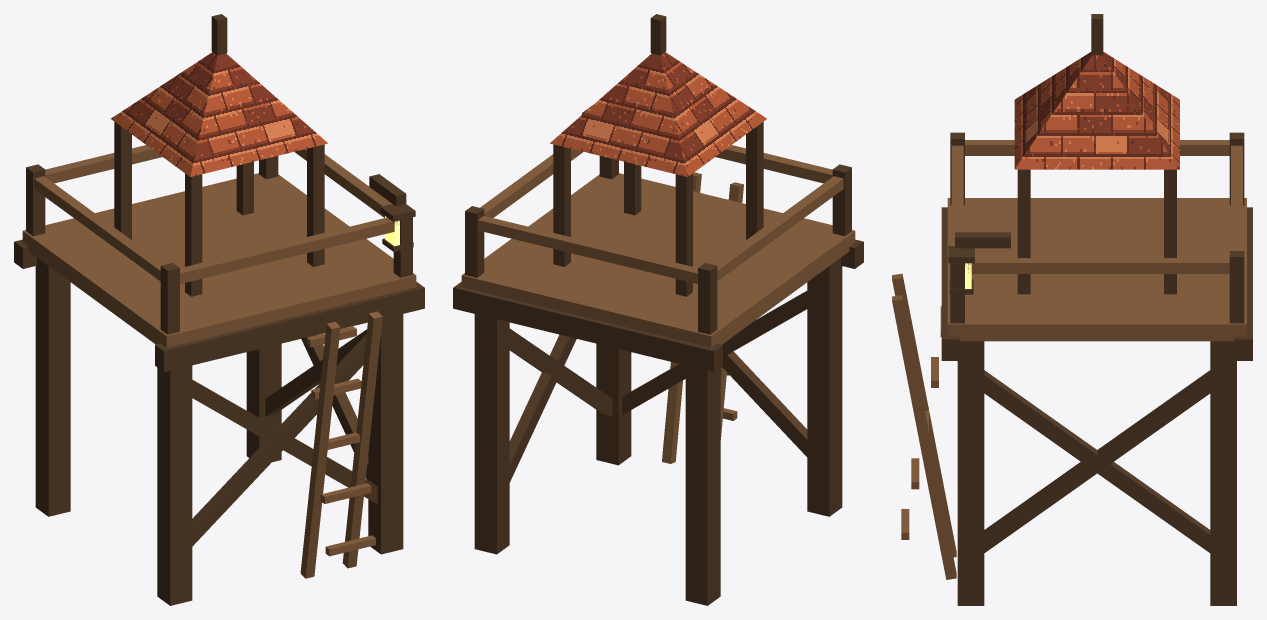
The model's file is guard_post_t1.glb.
The picture shows the model from 3 angles, left to right: view 1: azimuth 30°, elevation 25°; view 2: azimuth 150°, elevation 25°; view 3: azimuth 270°, elevation 25°; orthographic projection. The views are drawn at different scales.
Parts seen in each view (by area): view 1: deck, roof_cap, leg_2, leg_3, leg_1, deck_beam_x_1, brace_front_1, ladder_rail_1, rail_x_1, ladder_rail_0, brace_front_0, leg_0 (+16 smaller); view 2: deck, roof_cap, leg_3, leg_2, leg_0, deck_beam_x_0, rail_x_0, leg_1, brace_front_0, rail_y_1, brace_side_1, brace_front_1 (+13 smaller); view 3: deck, roof_cap, leg_1, leg_0, brace_side_1, brace_side_0, rail_y_0, ladder_rail_0, rail_y_1, roof_post_1, ladder_rail_1, roof_post_0 (+8 smaller).
Part boxes in pixels (<box>): deck: <box>22,173,416,347</box>; roof_cap: <box>111,52,327,176</box>; leg_2: <box>35,258,70,516</box>; leg_3: <box>157,365,192,605</box>; leg_1: <box>368,314,403,554</box>; deck_beam_x_1: <box>155,282,424,372</box>; brace_front_1: <box>192,334,366,546</box>; ladder_rail_1: <box>300,321,340,578</box>; rail_x_1: <box>180,217,399,283</box>; ladder_rail_0: <box>342,311,382,568</box>; brace_front_0: <box>192,379,377,503</box>; leg_0: <box>246,343,281,462</box>; deck: <box>461,173,855,347</box>; roof_cap: <box>550,52,766,176</box>; leg_3: <box>807,258,842,516</box>; leg_2: <box>685,365,720,605</box>; leg_0: <box>474,314,509,554</box>; deck_beam_x_0: <box>453,282,722,372</box>; rail_x_0: <box>478,216,697,283</box>; leg_1: <box>596,343,631,465</box>; brace_front_0: <box>622,291,807,414</box>; rail_y_1: <box>713,176,843,281</box>; brace_side_1: <box>509,334,576,482</box>; brace_front_1: <box>722,351,807,456</box>; deck: <box>947,198,1246,341</box>; roof_cap: <box>1014,52,1179,169</box>; leg_1: <box>957,341,984,605</box>; leg_0: <box>1210,341,1236,605</box>; brace_side_1: <box>984,370,1210,552</box>; brace_side_0: <box>984,370,1210,552</box>; rail_y_0: <box>965,258,1229,273</box>; ladder_rail_0: <box>892,295,956,579</box>; rail_y_1: <box>965,140,1229,155</box>; roof_post_1: <box>1017,169,1030,294</box>; ladder_rail_1: <box>892,273,956,557</box>; roof_post_0: <box>1164,169,1176,294</box>.
Size of what is drawn, in the model's own units: 2.35 by 4.4 by 2.71.
Materials: 4 (1 with a texture image).
